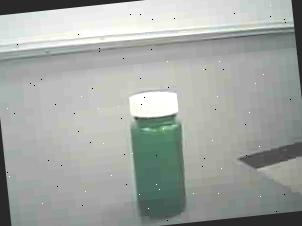Bottle C: (114, 84, 198, 225)
